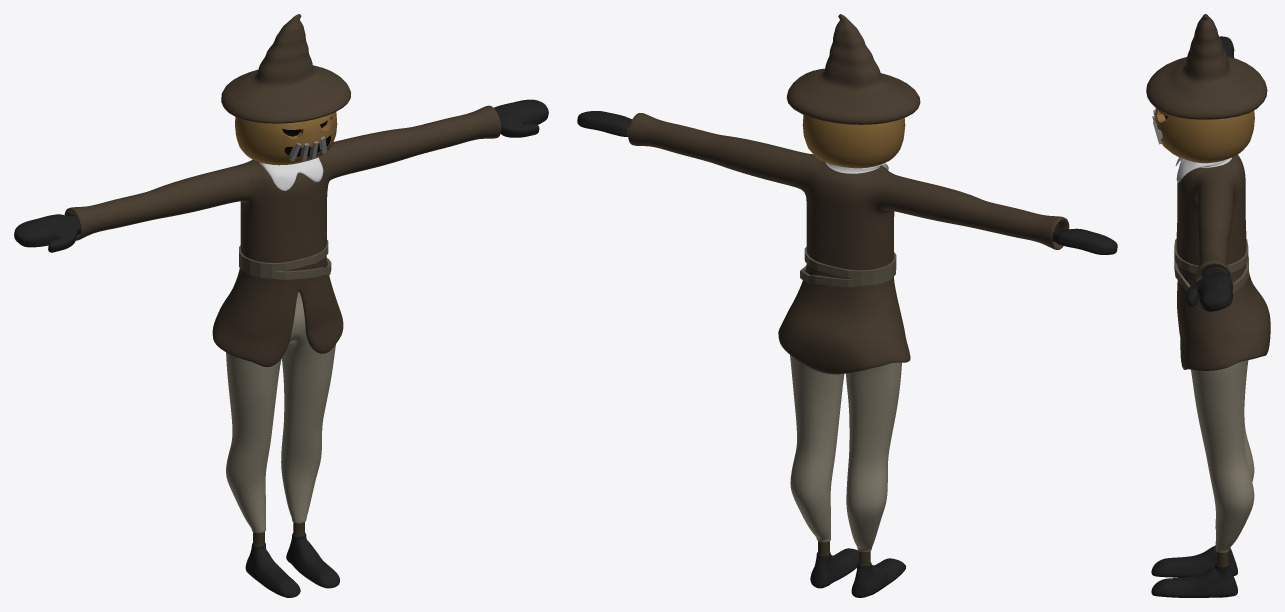
Rendered from Scarecrow_finished.fbx.
3 renders of one model, left to right at view 1: azimuth 30°, elevation 25°; view 2: azimuth 150°, elevation 25°; view 3: azimuth 270°, elevation 25°, orthographic. The views are drawn at different scales.
Parts seen in each view (by area): view 1: polySurface12, rope1, rope2; view 2: polySurface12, rope1, rope2; view 3: polySurface12, rope1, rope2.
Part boxes in pixels (x1=…): polySurface12: x1=14, y1=14, x2=548, y2=597; rope1: x1=239, y1=240, x2=328, y2=271; rope2: x1=239, y1=258, x2=331, y2=279; polySurface12: x1=577, y1=14, x2=1117, y2=597; rope1: x1=804, y1=247, x2=896, y2=278; rope2: x1=800, y1=263, x2=896, y2=287; polySurface12: x1=1146, y1=14, x2=1270, y2=597; rope1: x1=1174, y1=239, x2=1248, y2=273; rope2: x1=1174, y1=256, x2=1248, y2=293.
Bounding box in the file's own units: 8.61 × 8.67 × 1.7.
